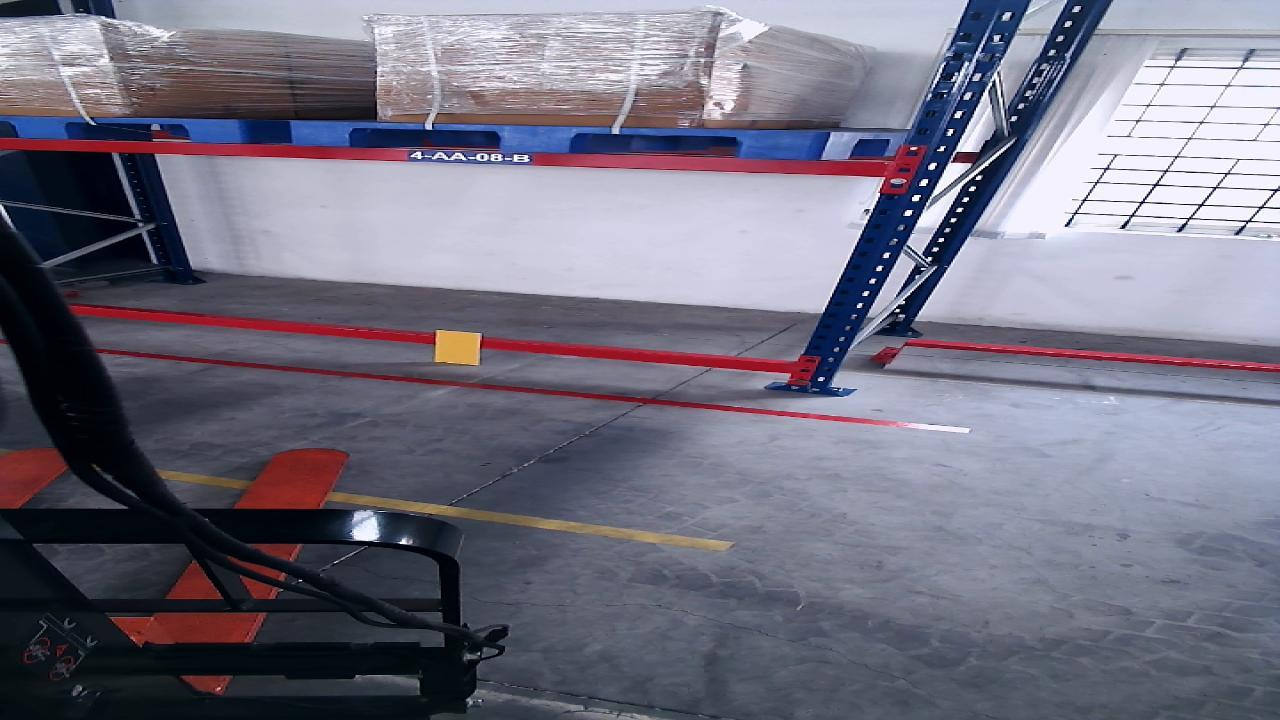h_rack: (67, 305, 791, 373), (0, 139, 883, 175)
orange_strip: (435, 331, 481, 365)
red_line: (95, 348, 970, 433)
small_pallet: (292, 121, 827, 159), (5, 117, 236, 142)
yellow_line: (156, 470, 727, 552)
